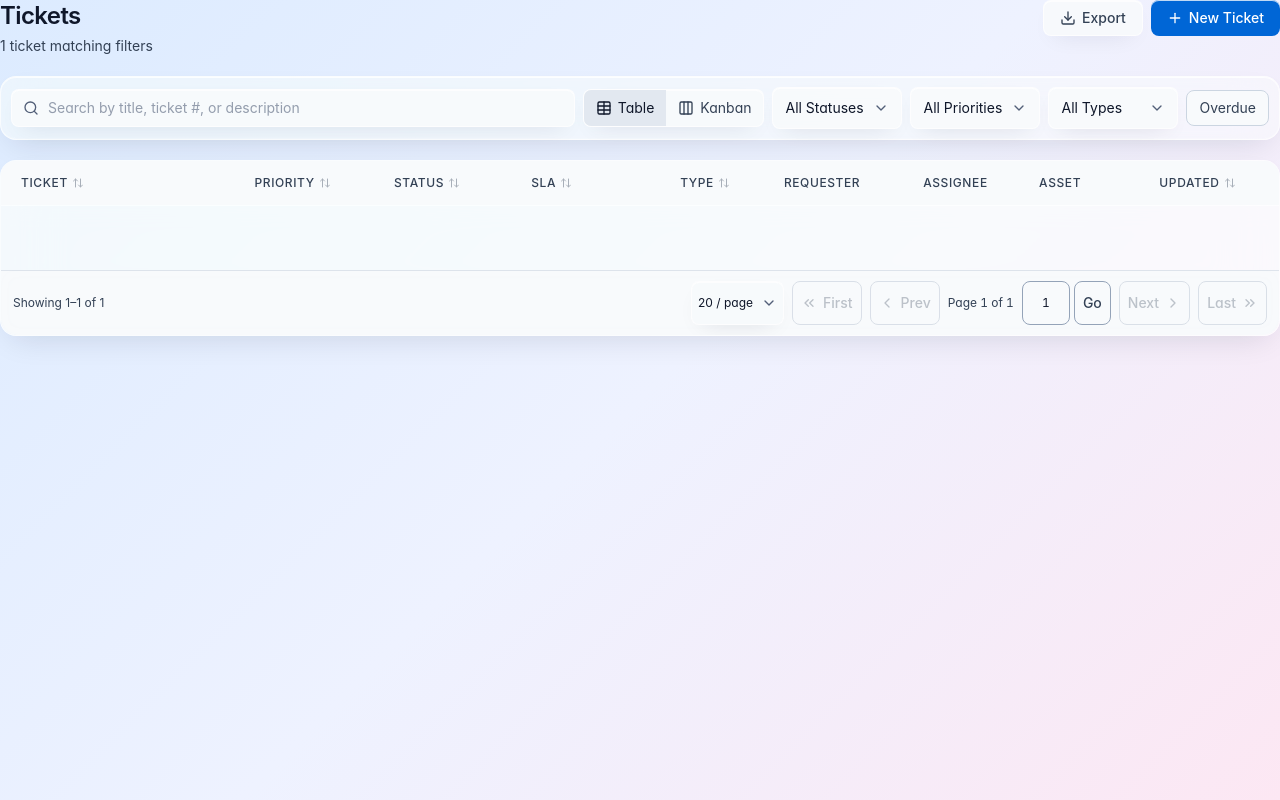
Test: Tickets backfill B — issue 122 (TFE-18/19/22/23/24/25/27/28/30) › TFE-27: linked-asset picker shows the first-N-of-total note
What coordinates should you click on to do the following:
click the button "New Ticket"
I would click on:
 (1215, 18)
Its box is [1151,0,1279,36].
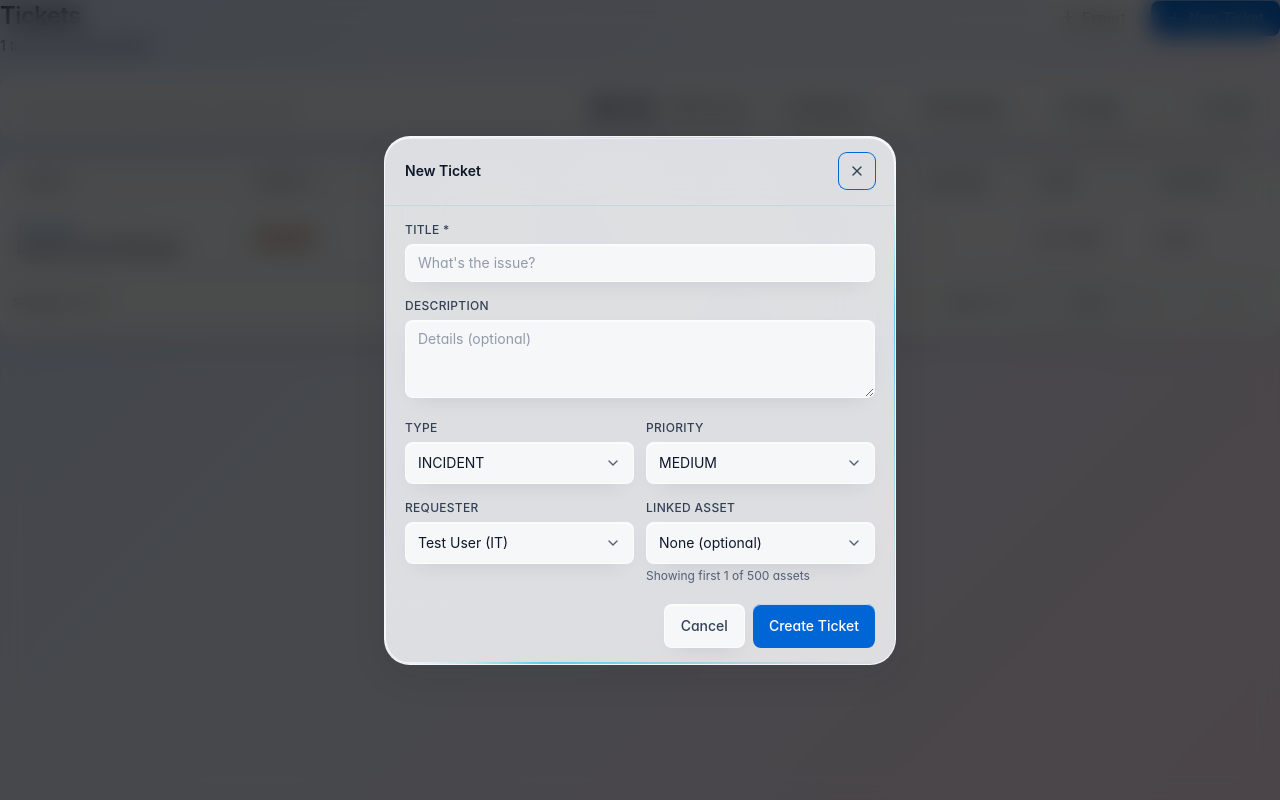
Now the text "Showing first 1 of 500 assets" is shown, box [646,568,810,582]
